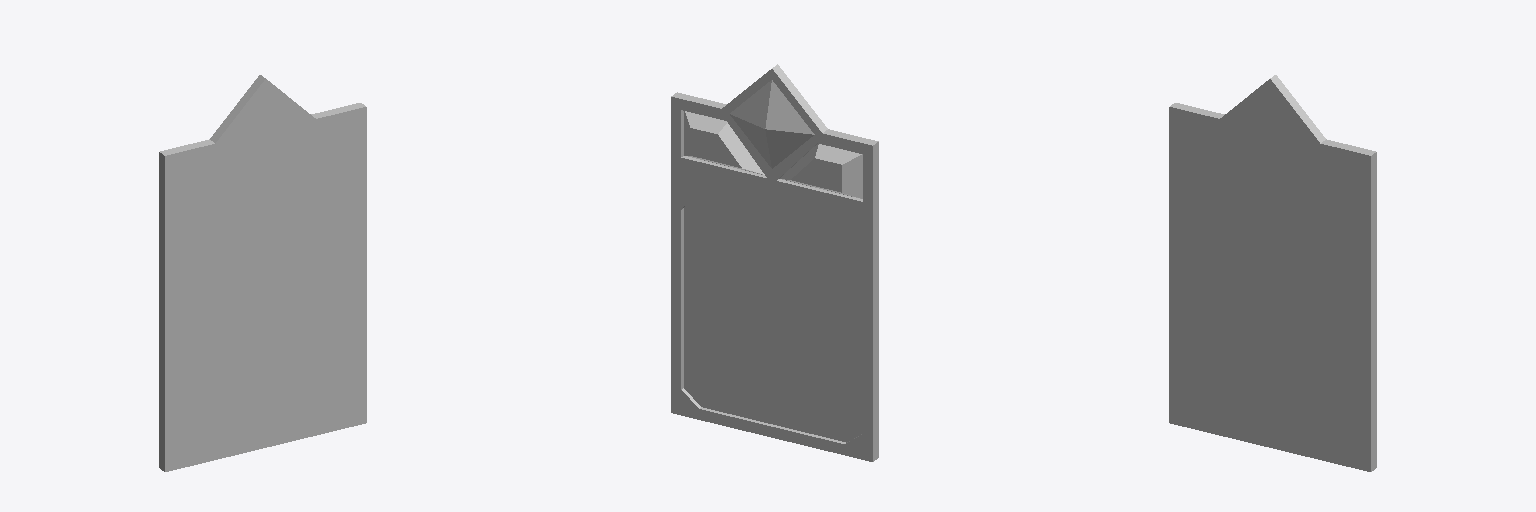
Rendered from Card_.obj.
3 renders of one model, left to right at view 1: azimuth 30°, elevation 25°; view 2: azimuth 150°, elevation 25°; view 3: azimuth 330°, elevation 25°, orthographic.
Parts seen in each view (by area): view 1: Card_Cube; view 2: cardArt_Plane.001, Card_Cube, Cost_Plane, Stat2_Cube.002, Stat1_Cube.001; view 3: Card_Cube.
Boxes of the visible parts, x1=… form: Card_Cube: x1=159, y1=75, x2=366, y2=471; cardArt_Plane.001: x1=684, y1=180, x2=862, y2=442; Card_Cube: x1=671, y1=64, x2=878, y2=461; Cost_Plane: x1=730, y1=80, x2=814, y2=168; Stat2_Cube.002: x1=780, y1=144, x2=862, y2=198; Stat1_Cube.001: x1=684, y1=111, x2=764, y2=174; Card_Cube: x1=1169, y1=75, x2=1376, y2=471.
Size of the model in its own units: 2 by 3.5 by 0.3383.